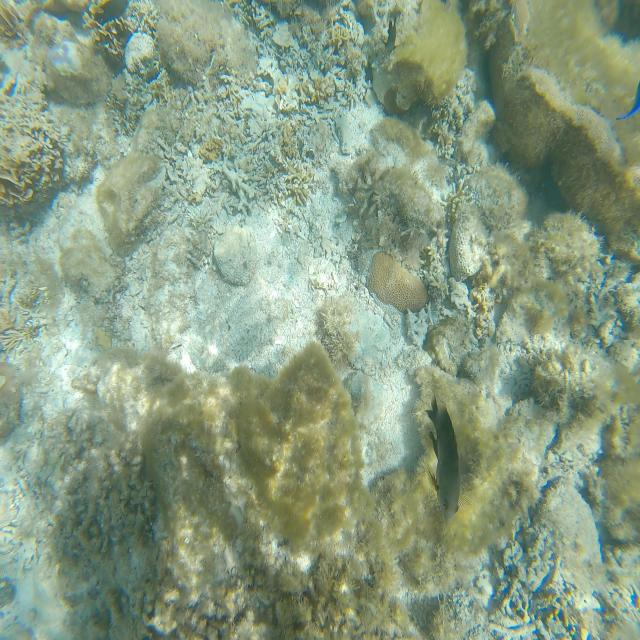kurohagi: (426, 397, 460, 520)
rurisuzumedai: (616, 82, 640, 121)
